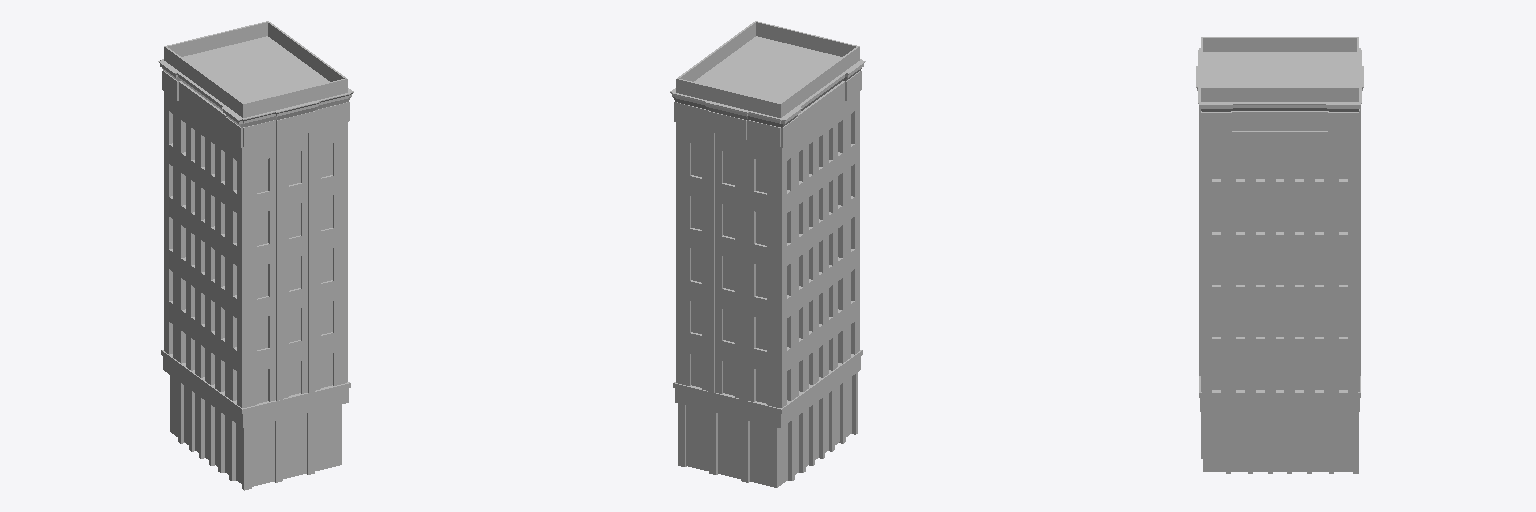
The model's file is TB1AsbWRVXXXXcyXXXXXXXXXXXX.obj.
The picture shows the model from 3 angles: view 1: azimuth 30°, elevation 25°; view 2: azimuth 150°, elevation 25°; view 3: azimuth 270°, elevation 25°; orthographic projection.
Parts seen in each view (by area): view 1: BuildingJ:BuildingJ BuildingJ:BuildingJ_model_GRP BuildingJ:NY6 ; view 2: BuildingJ:BuildingJ BuildingJ:BuildingJ_model_GRP BuildingJ:NY6 ; view 3: BuildingJ:BuildingJ BuildingJ:BuildingJ_model_GRP BuildingJ:NY6 .
Part boxes in pixels (x1,y1,x2,y2): BuildingJ:BuildingJ BuildingJ:BuildingJ_model_GRP BuildingJ:NY6 : (158, 21, 353, 490); BuildingJ:BuildingJ BuildingJ:BuildingJ_model_GRP BuildingJ:NY6 : (670, 21, 865, 487); BuildingJ:BuildingJ BuildingJ:BuildingJ_model_GRP BuildingJ:NY6 : (1196, 37, 1363, 473).
Bounding box in the file's own units: 3472 × 11081 × 4359.